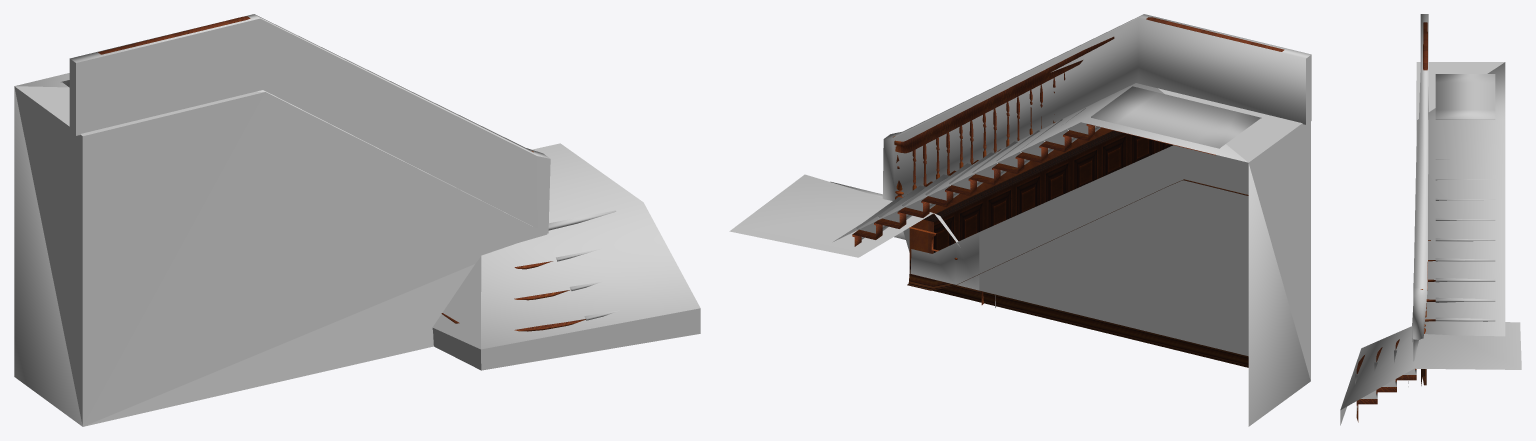
File: StaircaseCorner.fbx
3 renders of one model, left to right at view 1: azimuth 30°, elevation 25°; view 2: azimuth 150°, elevation 25°; view 3: azimuth 270°, elevation 25°, orthographic. The views are drawn at different scales.
Parts seen in each view (by area): view 1: CollMeshfor short stairs, Staircase_Smaller_LOD0; view 2: Staircase_Smaller_LOD0, CollMeshfor short stairs; view 3: CollMeshfor short stairs, Staircase_Smaller_LOD0.
Part boxes in pixels (x1,y1,x2,y2): CollMeshfor short stairs: (14,14,700,426); Staircase_Smaller_LOD0: (61,16,619,331); Staircase_Smaller_LOD0: (830,17,1284,367); CollMeshfor short stairs: (729,14,1311,426); CollMeshfor short stairs: (1340,14,1521,425); Staircase_Smaller_LOD0: (1355,22,1495,422).
Size of what is drawn, in the model's own units: 939 by 579 by 405.
